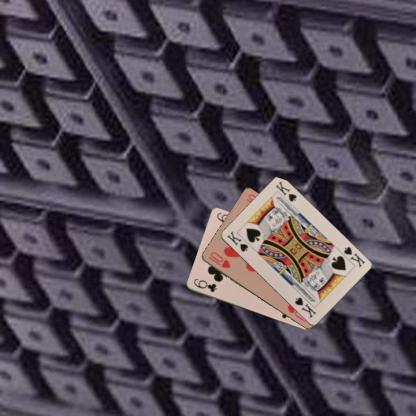10h: (205, 249, 232, 270)
6c: (190, 276, 218, 294)
Ks: (224, 229, 249, 253), (341, 244, 366, 268)
